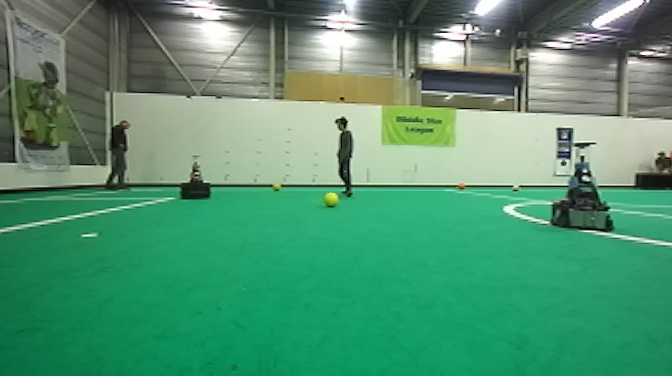ball: (322, 190, 340, 208), (270, 179, 284, 194), (456, 179, 468, 192), (510, 182, 522, 194)
human: (101, 119, 133, 193), (330, 113, 355, 199)
robot: (549, 139, 616, 232), (177, 153, 215, 201)
